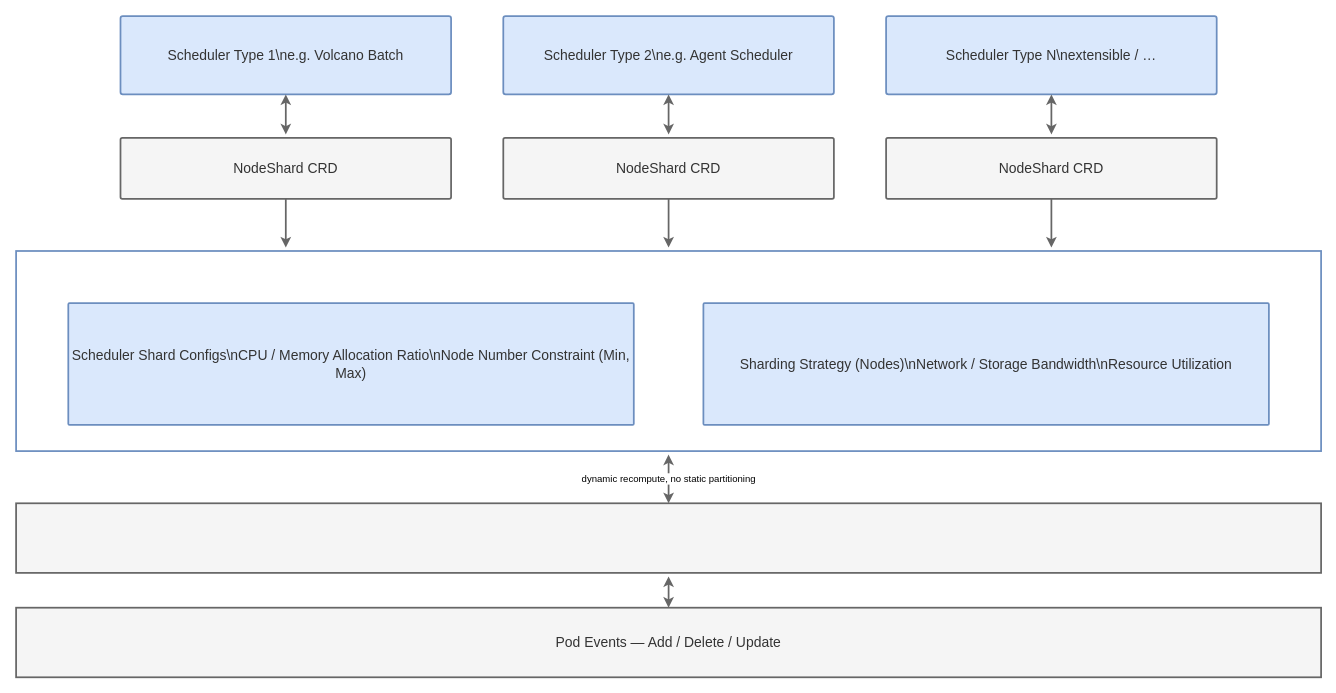
Some shapes in this 1336 by 693 pixel diagram are drawn without their labels. The shapes that lost their labels are listed below. From the top down, each one's box as (x1, y1, x2, y2) in pixels, then its label:
(15, 250, 1322, 452): Sharding Controller
(15, 502, 1322, 573): Node Metrics — CPU / Memory Capacity and Requests
